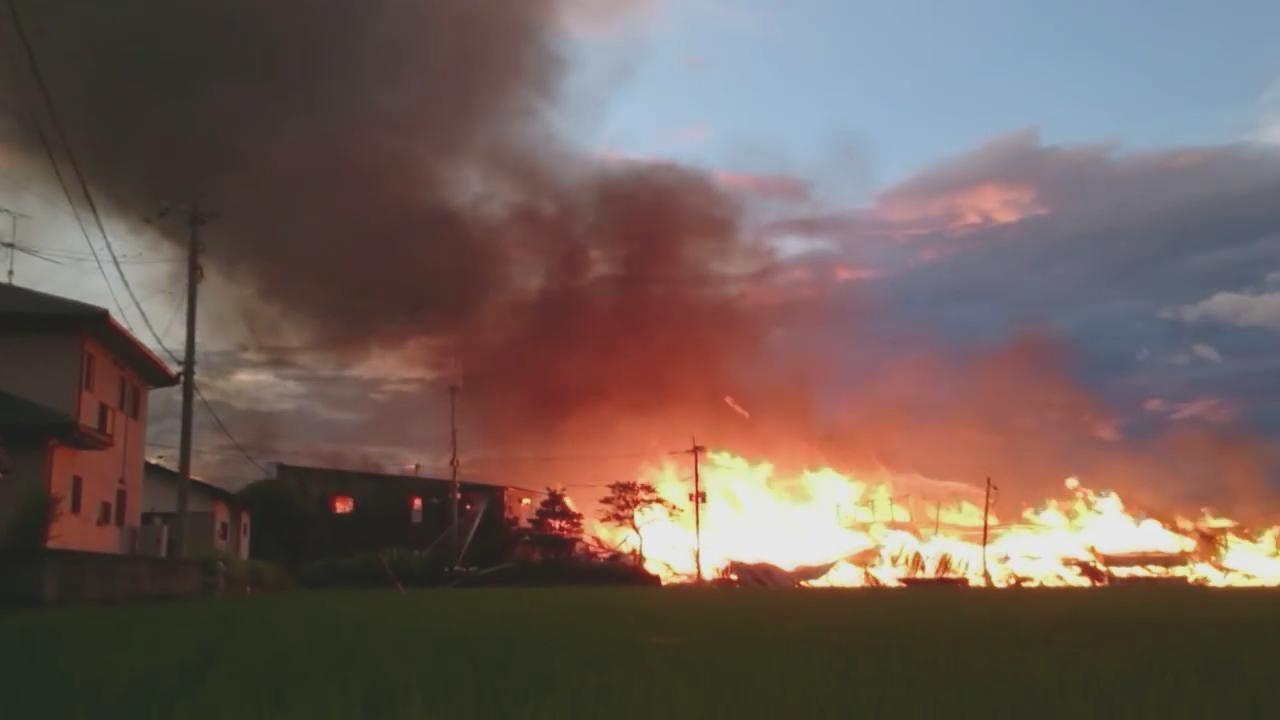Fire: (564, 448, 1277, 590), (336, 498, 353, 516), (522, 494, 534, 510)
